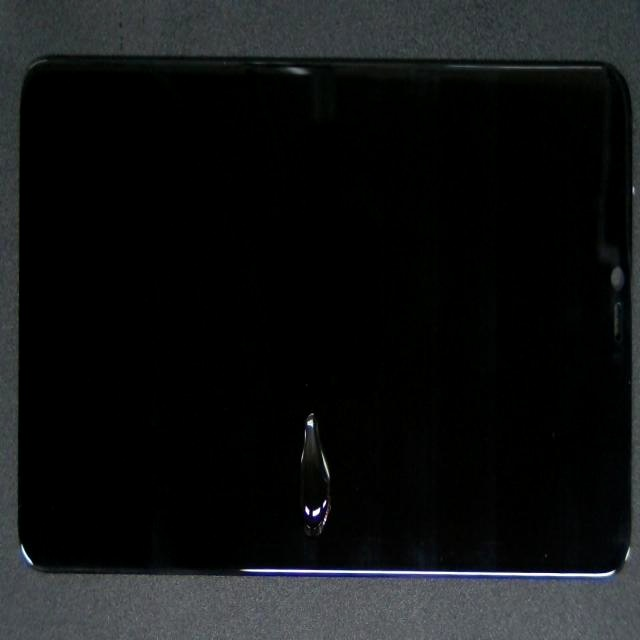oil: (172, 282, 501, 640)
